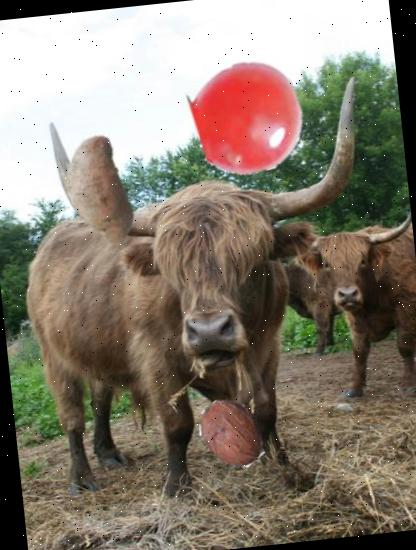Cocos: (192, 394, 271, 473)
Potato: (36, 130, 160, 256)
Redcurrant: (186, 56, 310, 180)
